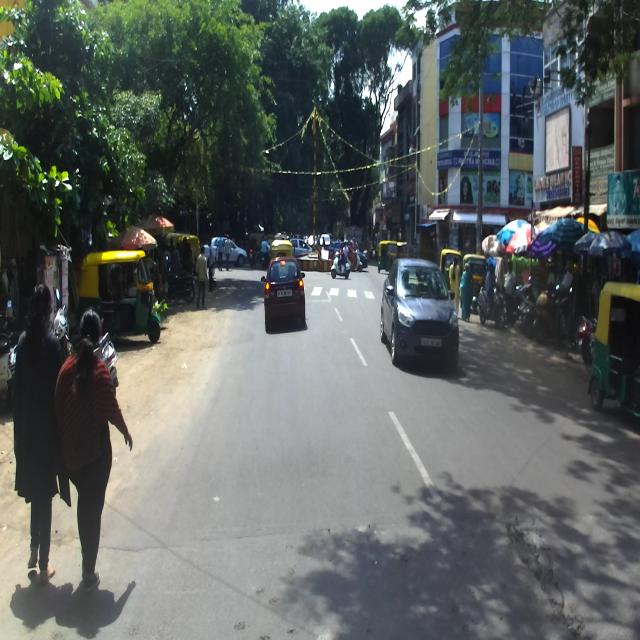car ahead at: (383, 254, 458, 369), (260, 252, 310, 332)
